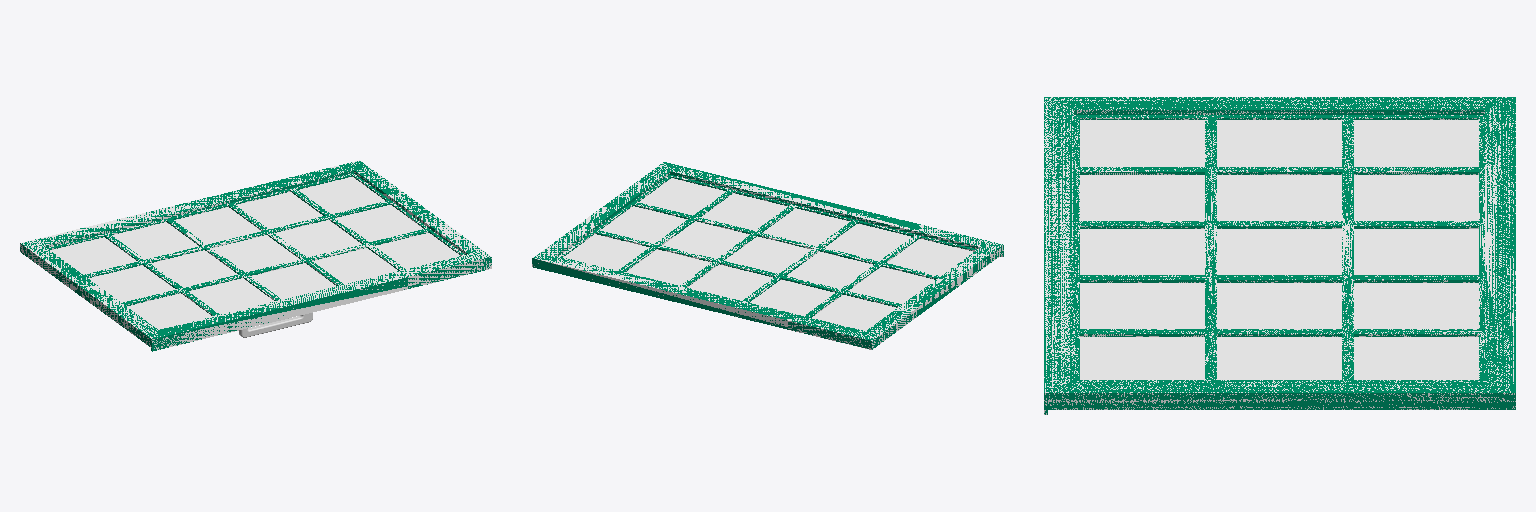
robot.urdf — window:
<?xml version="1.0" ?>
<robot name="window">
	<link name="base"/>
	<link name="link_0">
		<visual name="out-frame">
			<origin xyz="0 0 0"/>
			<geometry>
				<mesh filename="texture_dae/untitled.dae" scale="1 1 1"/>
			</geometry>
		</visual>
		<collision>
			<origin xyz="0 0 0"/>
			<geometry>
				<mesh filename="texture_dae/untitled.dae" scale="1 1 1"/>
			</geometry>
		</collision>
	</link>
	<joint name="joint_0" type="fixed">
		<origin rpy="1.570796326794897 0 -1.570796326794897" xyz="0 0 0"/>
		<child link="link_0"/>
		<parent link="base"/>
	</joint>
	<link name="link_1">
		<visual name="surf-board">
			<origin xyz="0.23565320670604706 -0.34836465252022536 0"/>
			<geometry>
				<mesh filename="texture_dae/untitled1.dae" scale="1 1 1"/>
			</geometry>
		</visual>
		<collision>
			<origin xyz="0.23565320670604706 -0.34836465252022536 0"/>
			<geometry>
				<mesh filename="texture_dae/untitled1.dae" scale="1 1 1"/>
			</geometry>
		</collision>
	</link>
	<joint name="joint_1" type="revolute">
		<origin xyz="-0.23565320670604706 0.34836465252022536 0"/>
		<axis xyz="0 -1 0"/>
		<child link="link_1"/>
		<parent link="link_0"/>
		<limit lower="0" upper="1.5079644737231006"/>
	</joint>
	<link name="link_2">
		<visual name="handle">
			<origin xyz="0 0 0"/>
			<geometry>
				<mesh filename="texture_dae/9969516-handle.dae" scale="0.8823529656175407 0.8823529656175407 0.8823529656175407"/>
			</geometry>
		</visual>
		<collision>
			<origin xyz="0 0 0"/>
			<geometry>
				<mesh filename="texture_dae/9969516-handle.dae" scale="0.8823529656175407 0.8823529656175407 0.8823529656175407"/>
			</geometry>
		</collision>
	</link>
	<joint name="joint_2" type="revolute">
		<origin xyz="0 0 0"/>
		<child link="link_2"/>
		<parent link="link_3"/>
		<axis xyz="0 0 1"/>
		<limit lower="0" upper="1.5079644737231006"/>
	</joint>
	<link name="link_3">
		<visual name="lock">
			<origin xyz="0 0 0"/>
			<geometry>
				<mesh filename="texture_dae/9969516-lock.dae" scale="0.8823529656175407 0.8823529656175407 0.8823529656175407"/>
			</geometry>
		</visual>
		<collision>
			<origin xyz="0 0 0"/>
			<geometry>
				<mesh filename="texture_dae/9969516-lock.dae" scale="0.8823529656175407 0.8823529656175407 0.8823529656175407"/>
			</geometry>
		</collision>
	</link>
	<joint name="joint_3" type="fixed">
		<origin xyz="0.44409596992656586 -0.34836465252022536 0.00917094583565014"/>
		<child link="link_3"/>
		<parent link="link_1"/>
	</joint>
</robot>

--- What the picture shows (computed from the rendered views, not written in the file) ---
3 views of the same robot in one strip: view 1: azimuth 30°, elevation 25°; view 2: azimuth 150°, elevation 25°; view 3: azimuth 270°, elevation 25° (orthographic).
Robot: window — 5 links, 4 joints (2 revolute, 2 fixed); root link base; default pose: all joints at 0.
Visible links, largest first — view 1: link_1, link_2; view 2: link_1; view 3: link_1.
Link boxes in pixels (x1,y1,x2,y2): link_1: (20,160,491,351); link_2: (239,313,312,337); link_1: (532,162,1003,349); link_1: (1044,97,1515,414).
Bounding box of the posed robot: 0.706 × 0.4741 × 0.0561 m (x, y, z).
3 mesh visuals loaded from 4 distinct referenced files (3 Collada DAE); not drawn: 1 (reference not matched to a file when rendering).
